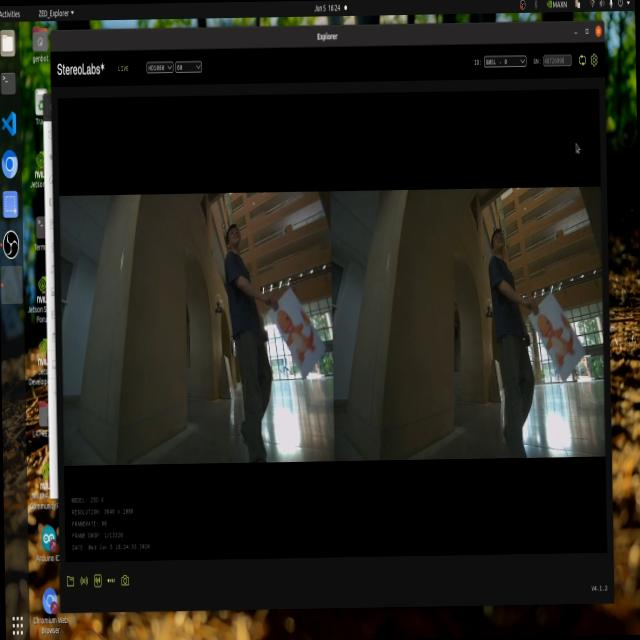red: (274, 295, 314, 361), (538, 314, 580, 374)
